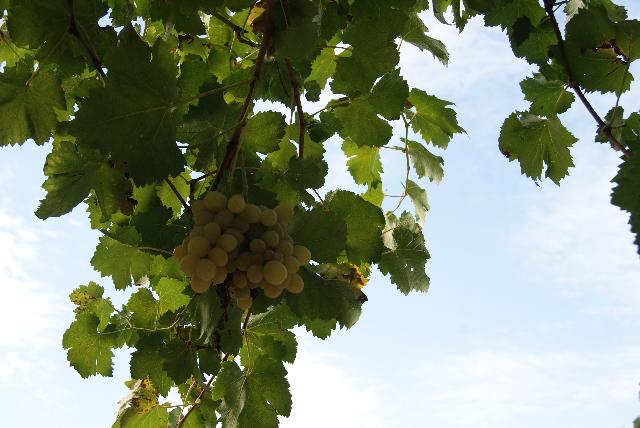grapes: (174, 191, 278, 292), (232, 204, 311, 306)
